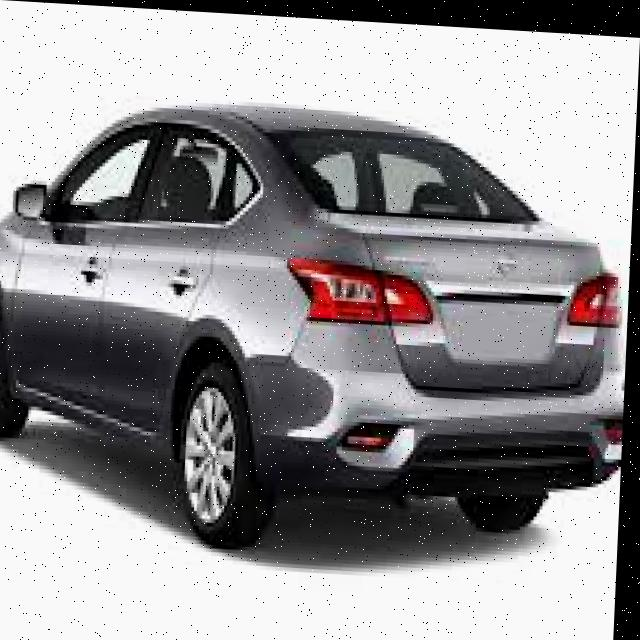car: (0, 91, 637, 572)
